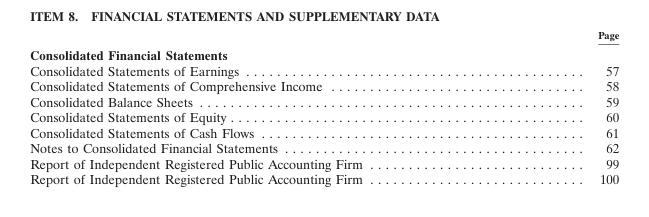table: (29, 28, 618, 186)
table column: (29, 28, 479, 186), (479, 28, 618, 186)
table column header: (29, 28, 618, 43)
table projected row header: (29, 43, 618, 62)
table row: (29, 43, 618, 62), (29, 77, 618, 93), (29, 108, 618, 124), (29, 139, 618, 155), (29, 170, 618, 186), (29, 28, 618, 43), (29, 62, 618, 77), (29, 93, 618, 108), (29, 124, 618, 139), (29, 155, 618, 170)
